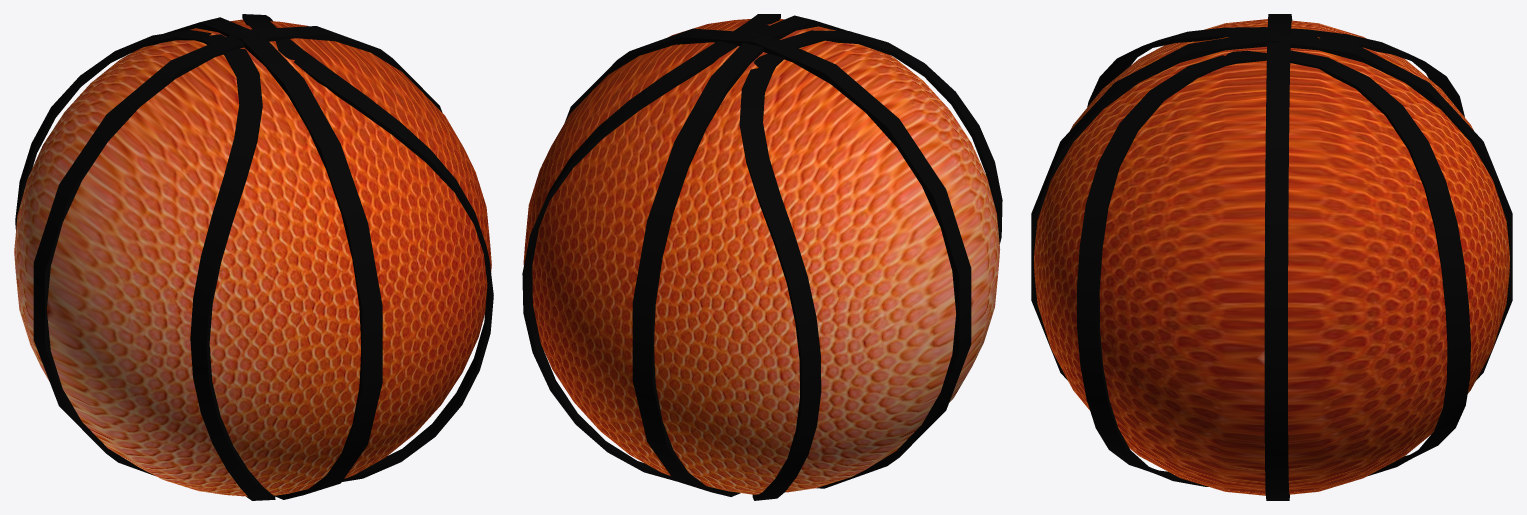
Rendered from basketball.obj.
3 views of the same model, side by side, from view 1: azimuth 30°, elevation 25°; view 2: azimuth 150°, elevation 25°; view 3: azimuth 270°, elevation 25° (orthographic).
Visible parts, largest first — view 1: Sphere001; view 2: Sphere001; view 3: Sphere001.
Boxes of the visible parts, box(x1,y1,x2,y2) form: Sphere001: box(14, 14, 493, 500); Sphere001: box(522, 14, 1002, 500); Sphere001: box(1031, 14, 1512, 500).
Bounding box in the file's own units: 6.19 × 6.28 × 6.19.
